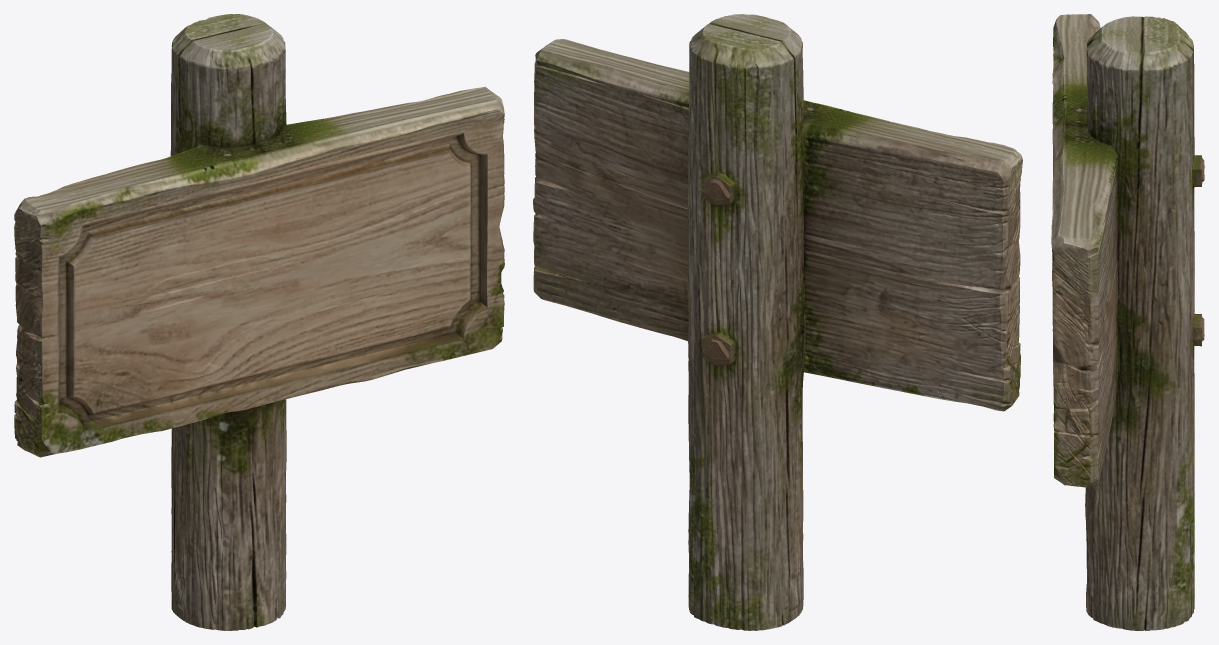
Rendered from sign.glb.
3 views of the same model, side by side, from view 1: azimuth 30°, elevation 25°; view 2: azimuth 150°, elevation 25°; view 3: azimuth 270°, elevation 25° (orthographic).
Parts seen in each view (by area): view 1: geometry_0; view 2: geometry_0; view 3: geometry_0.
Boxes of the visible parts, bbox=[...] form: geometry_0: bbox=[14, 14, 504, 630]; geometry_0: bbox=[533, 14, 1022, 630]; geometry_0: bbox=[1051, 14, 1204, 630].
Size of the model in its own units: 0.8681 by 1 by 0.2421.
1 material, 1 textured.
